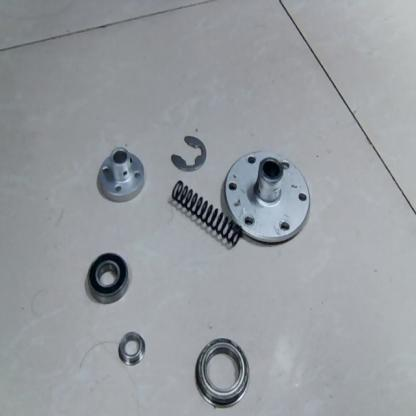FOD: (222, 147, 315, 248), (171, 180, 242, 252), (193, 334, 254, 413), (85, 248, 133, 308), (97, 145, 146, 201), (167, 131, 209, 171), (117, 332, 149, 366)
